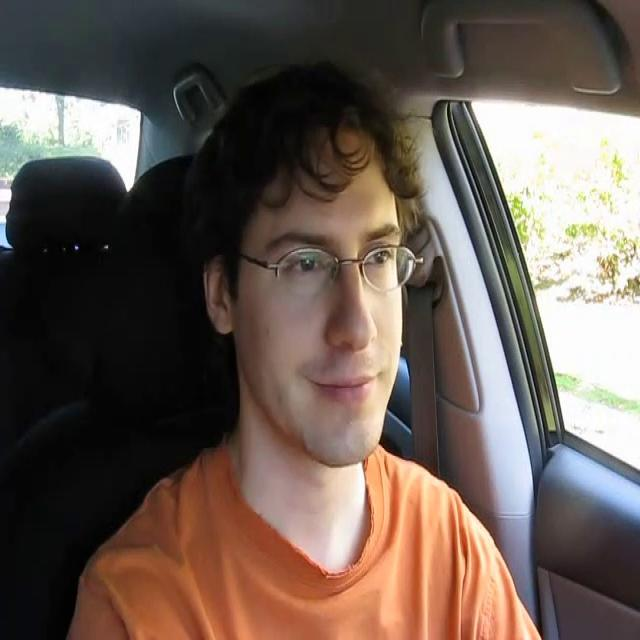close: (309, 367, 382, 408)
